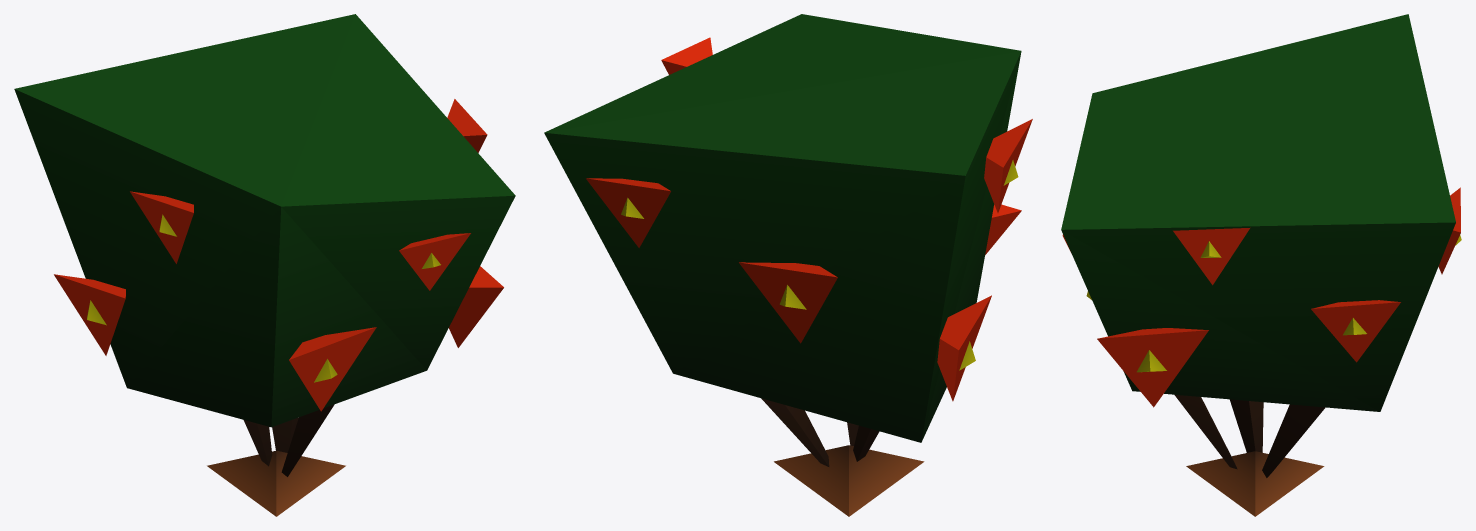
File: c_hedge_square_flower_ab.fbx
3 renders of one model, left to right at view 1: azimuth 30°, elevation 25°; view 2: azimuth 150°, elevation 25°; view 3: azimuth 270°, elevation 25°, orthographic. The views are drawn at different scales.
Parts seen in each view (by area): view 1: c_hedge_square_flower_ab; view 2: c_hedge_square_flower_ab; view 3: c_hedge_square_flower_ab.
Boxes of the visible parts, left/top/right/bottom form: c_hedge_square_flower_ab: left=14, top=14, right=515, bottom=516; c_hedge_square_flower_ab: left=544, top=14, right=1032, bottom=516; c_hedge_square_flower_ab: left=1061, top=14, right=1461, bottom=516.
Bounding box in the file's own units: 1.56 × 1.63 × 1.5.
